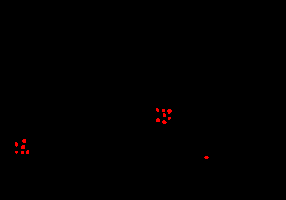Target: (167, 109, 172, 114), (162, 120, 167, 124), (156, 118, 160, 122), (22, 139, 26, 143), (21, 145, 25, 149), (15, 142, 18, 147), (204, 156, 209, 159), (156, 108, 159, 112), (163, 113, 166, 117), (26, 150, 29, 154), (162, 109, 165, 112), (168, 117, 171, 120), (15, 151, 18, 154), (21, 151, 24, 154)
